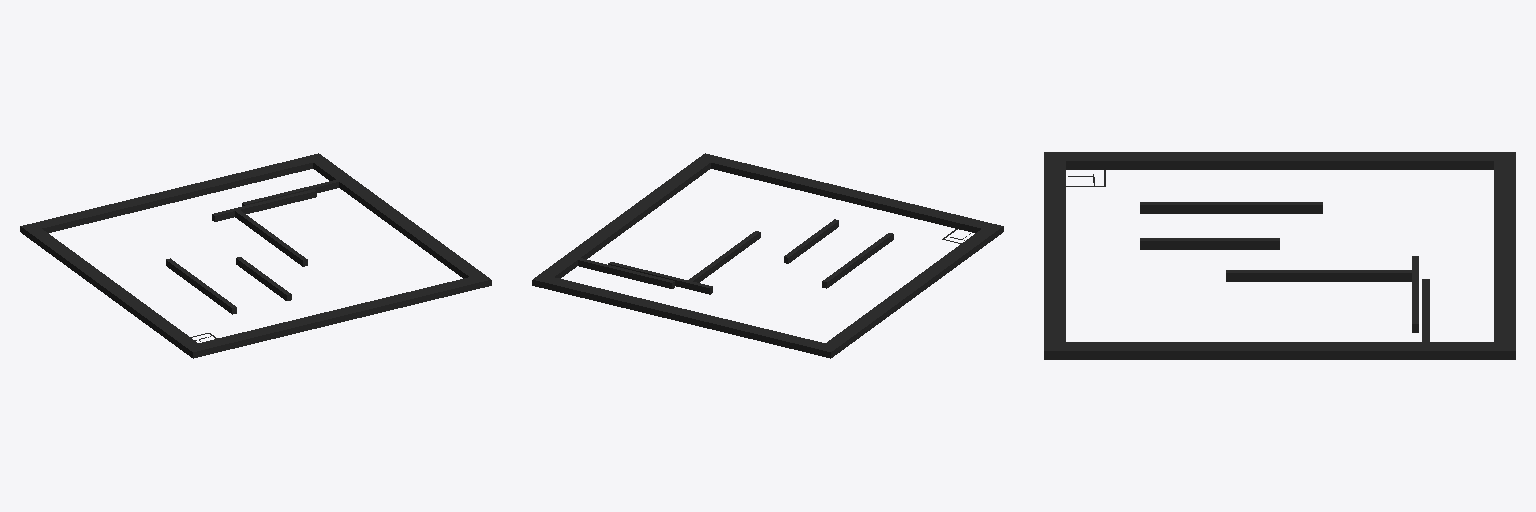
The robot description file, URDF, robot "Room12":
<robot name="Room12">
    <link name="_name">
        <visual> 
            <origin rpy="0.0 0.0 0.0" xyz="-0.5088297492809245 -0.5095940077291982 -0.009999999999999998" />
                <geometry>
                    <mesh filename="Room12/Room12.obj" scale="1 1 0.1" />
                </geometry>

            <material name="black">
                <color rgba="0.2 0.2 0.2 0.95" />
            </material>
        </visual>

       <collision concave="yes" name="collision_0">
            <origin rpy="0.0 0.0 0.0" xyz="-0.5088297492809245 -0.5095940077291982 -0.009999999999999998" />
            <geometry>
                <mesh filename="Room12/Room12_vhacd.obj" scale="1 1 0.1" />
            </geometry>
        </collision>

        <inertial> 
            <mass value="0" />
            <inertia ixx="0" ixy="0" ixz="0" iyy="0" iyz="0" izz="0" />
        </inertial> 
    </link>
</robot>

--- Render facts (derived) ---
Views: 3 orthographic renders of the robot side by side, from view 1: azimuth 30°, elevation 25°; view 2: azimuth 150°, elevation 25°; view 3: azimuth 270°, elevation 25°.
Model Room12 with 1 links and 0 joints (none), rooted at _name, posed all joints at 0.
Visible links, largest first — view 1: _name; view 2: _name; view 3: _name.
Link boxes in pixels (x1,y1,x2,y2): _name: (20,153,491,358); _name: (532,153,1003,358); _name: (1044,152,1515,359).
Size in the robot's own frame: 1 by 1 by 0.02 metres.
1 mesh visuals loaded from 1 distinct referenced files (1 OBJ).